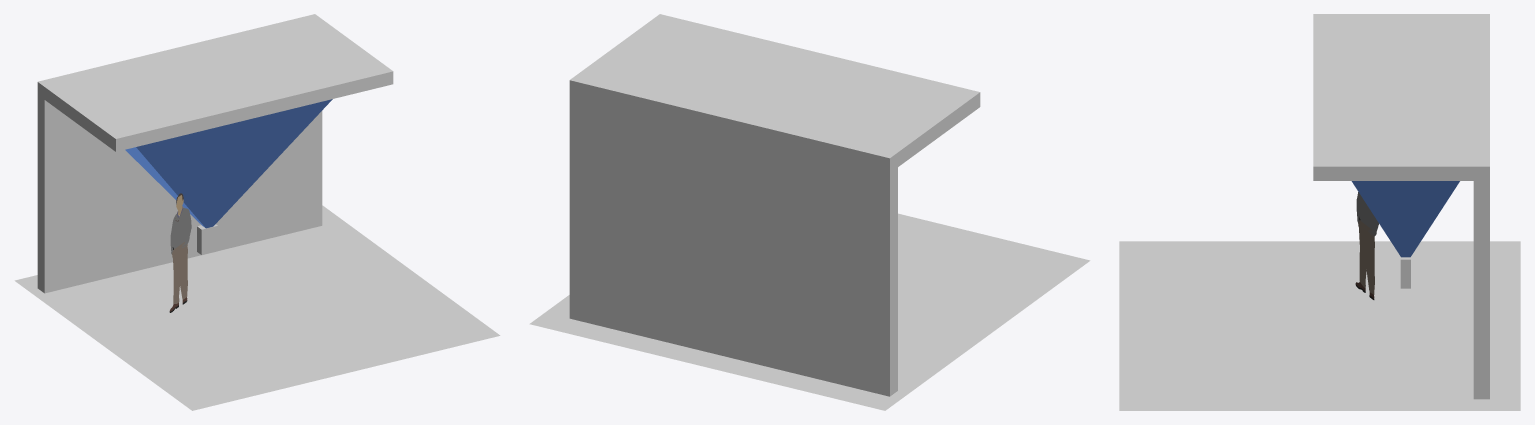
Rendered from SET_09_Techo_Piramides.obj.
3 renders of one model, left to right at view 1: azimuth 30°, elevation 25°; view 2: azimuth 150°, elevation 25°; view 3: azimuth 270°, elevation 25°, orthographic. The views are drawn at different scales.
Visible parts, largest first — view 1: Mesh11 Component_9_1 Model, Mesh14 Component_80_1 Model, Mesh15 Component_83_1 Model, Mesh12 Component_67_1 Component_66_1 Component_65_1 Model, Mesh10 Derrick1 Model, Mesh13 Component_6_1 Component_66_1 Component_65_1 Model; view 2: Mesh14 Component_80_1 Model, Mesh15 Component_83_1 Model, Mesh11 Component_9_1 Model; view 3: Mesh11 Component_9_1 Model, Mesh15 Component_83_1 Model, Mesh12 Component_67_1 Component_66_1 Component_65_1 Model, Mesh14 Component_80_1 Model, Mesh10 Derrick1 Model.
Boxes of the visible parts, x1,y1,x2,y2 form: Mesh11 Component_9_1 Model: (14,205,500,410); Mesh14 Component_80_1 Model: (37,95,322,293); Mesh15 Component_83_1 Model: (37,14,393,151); Mesh12 Component_67_1 Component_66_1 Component_65_1 Model: (125,99,332,228); Mesh10 Derrick1 Model: (169,193,191,312); Mesh13 Component_6_1 Component_66_1 Component_65_1 Model: (197,224,217,254); Mesh14 Component_80_1 Model: (569,95,897,396); Mesh15 Component_83_1 Model: (569,14,980,172); Mesh11 Component_9_1 Model: (529,213,1090,410); Mesh11 Component_9_1 Model: (1119,241,1520,410); Mesh15 Component_83_1 Model: (1313,14,1489,180); Mesh12 Component_67_1 Component_66_1 Component_65_1 Model: (1351,181,1459,257); Mesh14 Component_80_1 Model: (1473,181,1489,399); Mesh10 Derrick1 Model: (1355,192,1378,299).
Bounding box in the file's own units: 5000 × 3200 × 5000.
